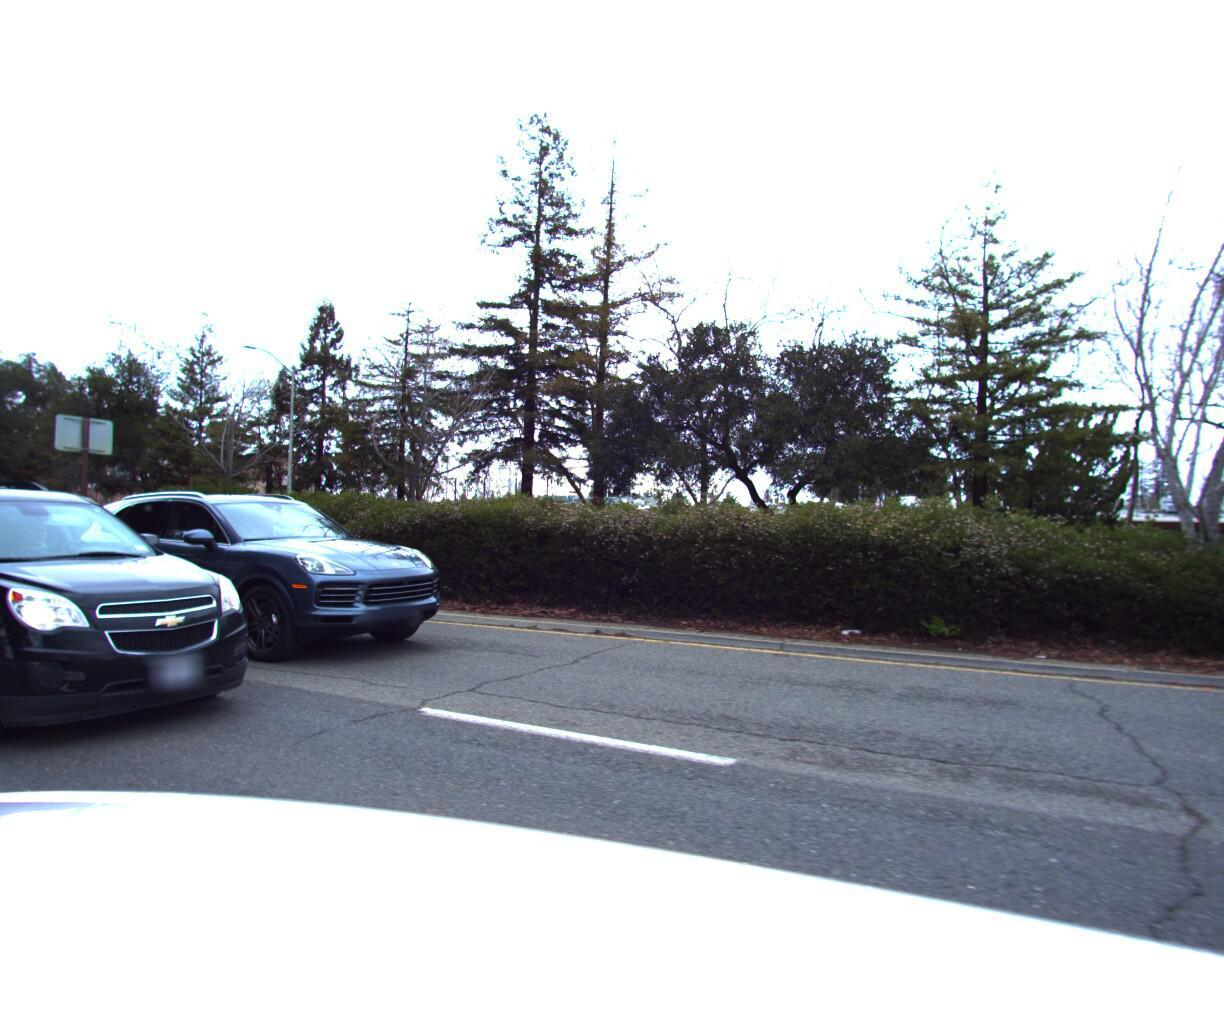car: (0, 451, 288, 762), (55, 484, 483, 679)
